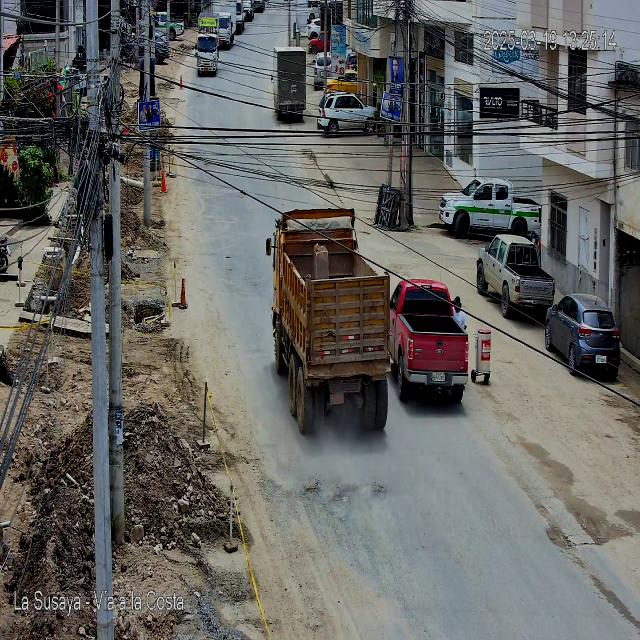CMT: (389, 279, 468, 402)
TRUCK: (272, 208, 393, 433)
